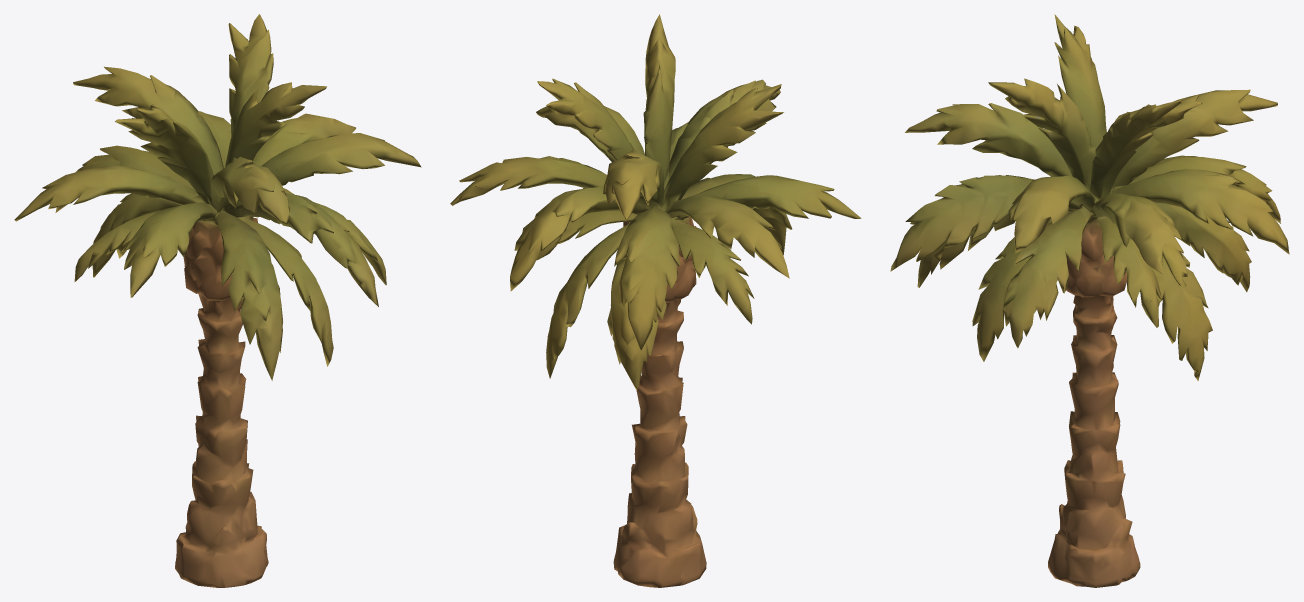
Rendered from palm+tree+3d+model.glb.
3 views of the same model, side by side, from view 1: azimuth 30°, elevation 25°; view 2: azimuth 150°, elevation 25°; view 3: azimuth 270°, elevation 25° (orthographic).
Parts seen in each view (by area): view 1: tripo_node_9b126ce1-565e-4cca-a080-faf6cde34adc; view 2: tripo_node_9b126ce1-565e-4cca-a080-faf6cde34adc; view 3: tripo_node_9b126ce1-565e-4cca-a080-faf6cde34adc.
Part boxes in pixels (bbox=[...]): tripo_node_9b126ce1-565e-4cca-a080-faf6cde34adc: bbox=[14, 14, 421, 587]; tripo_node_9b126ce1-565e-4cca-a080-faf6cde34adc: bbox=[450, 14, 861, 587]; tripo_node_9b126ce1-565e-4cca-a080-faf6cde34adc: bbox=[890, 14, 1289, 587].
Size of the model in its own units: 0.6918 by 1 by 0.7022.
1 material, 1 textured.
